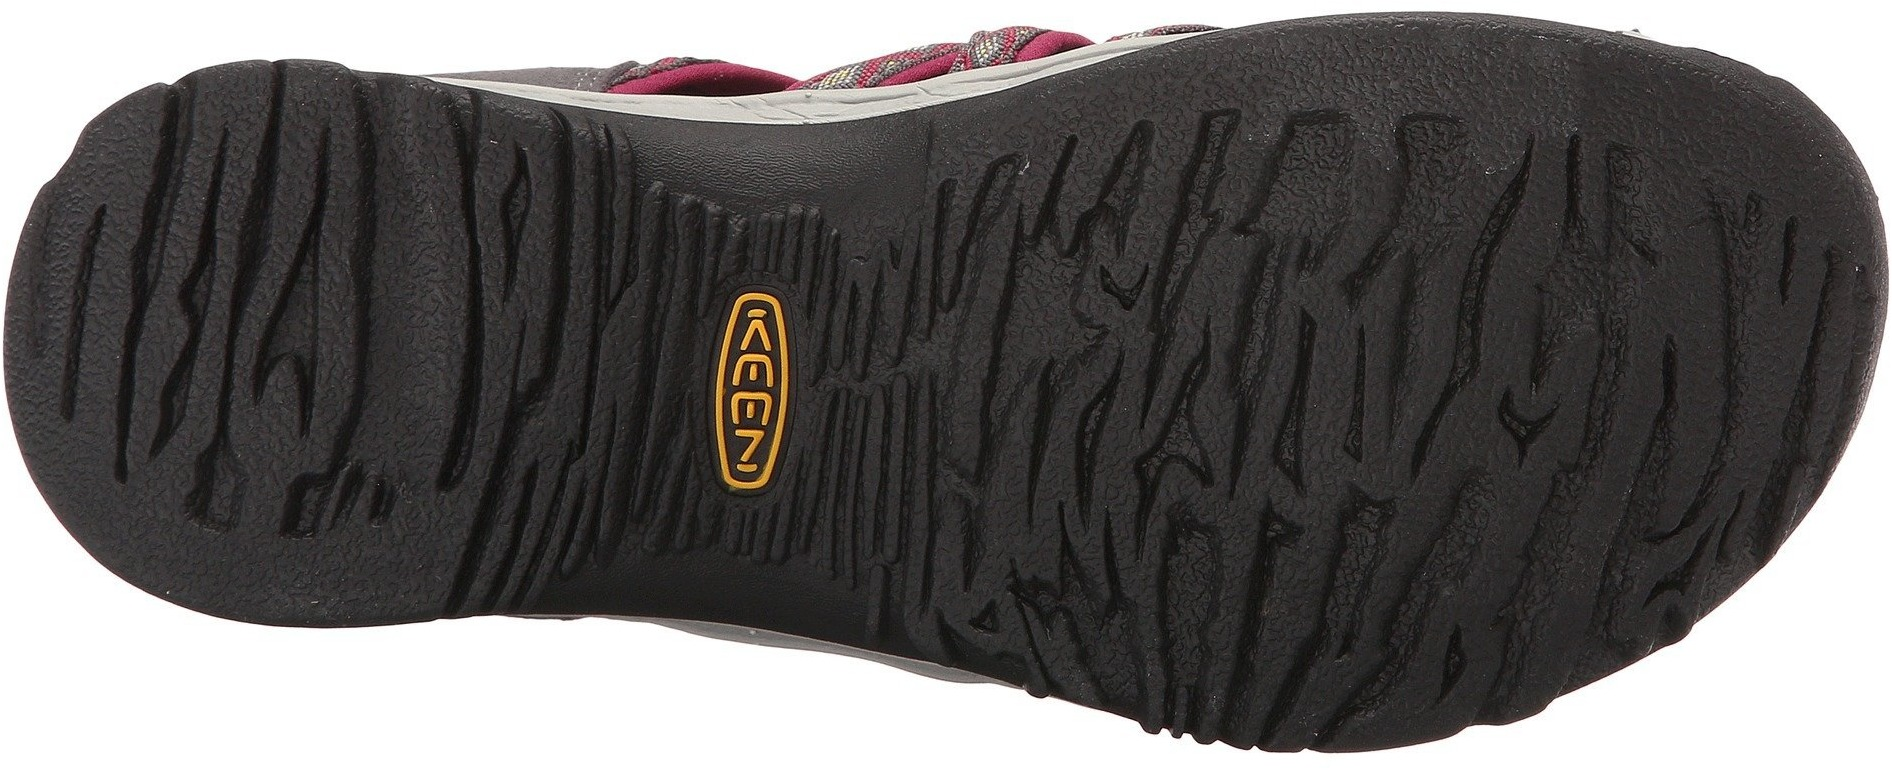other: (8, 57, 625, 616)
quad: (714, 291, 798, 494)
